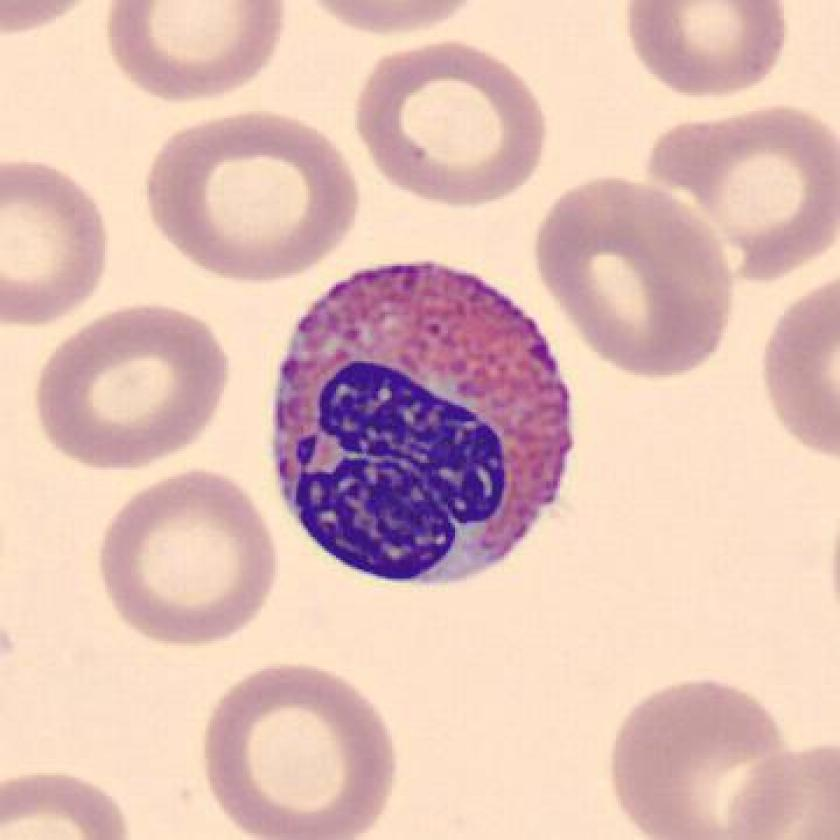eosinophil: (262, 249, 589, 605)
